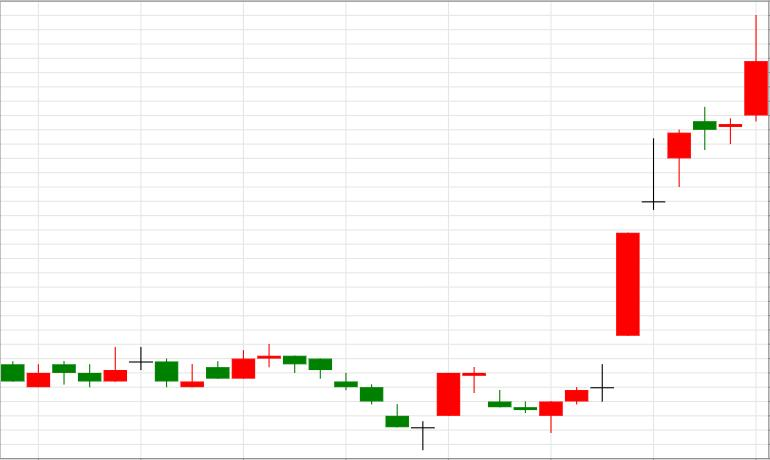morning_star_rise: (283, 356, 460, 451)
